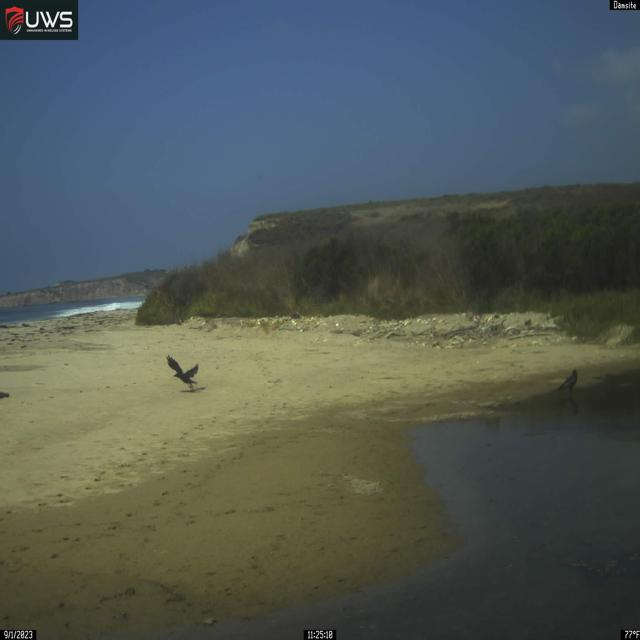bird: (166, 354, 199, 392)
